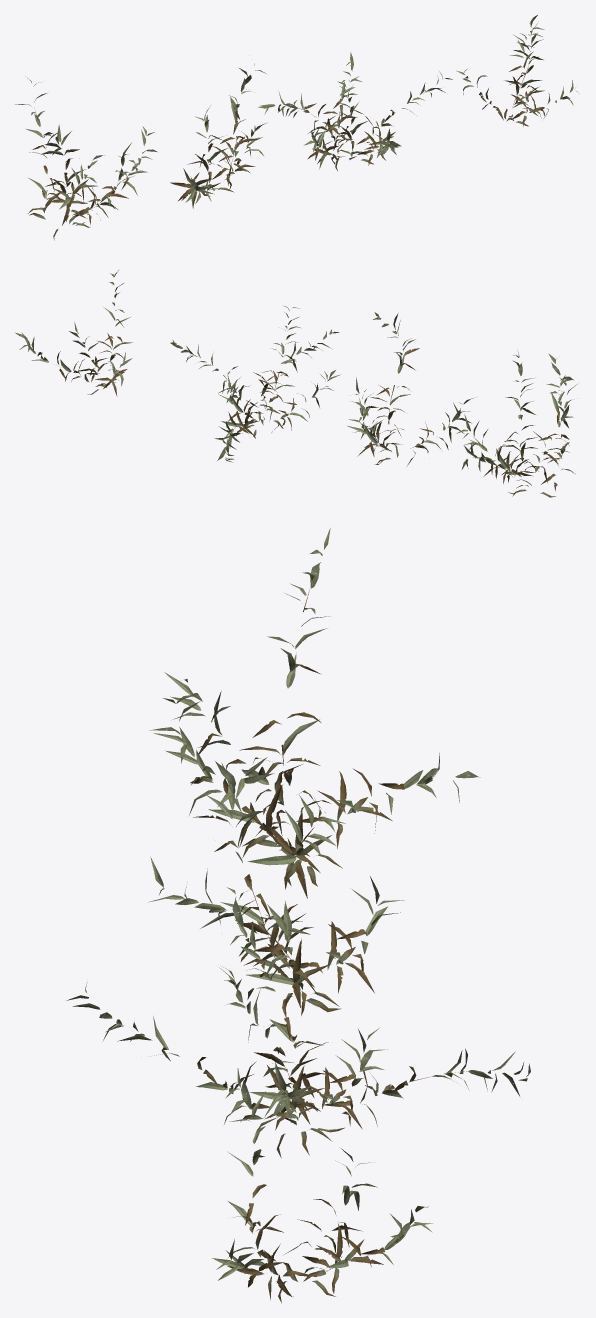
File: shrub_02.glb
3 renders of one model, top to bottom at view 1: azimuth 30°, elevation 25°; view 2: azimuth 150°, elevation 25°; view 3: azimuth 270°, elevation 25°, orthographic. The views are drawn at different scales.
Parts seen in each view (by area): view 1: shrub_02_c, shrub_02_a, shrub_02_b, shrub_02_d; view 2: shrub_02_c, shrub_02_a, shrub_02_b, shrub_02_d; view 3: shrub_02_a, shrub_02_c, shrub_02_b, shrub_02_d.
Part boxes in pixels (left/top/right/bottom): shrub_02_c: left=257, top=52, right=452, bottom=170; shrub_02_a: left=15, top=76, right=157, bottom=240; shrub_02_b: left=170, top=63, right=267, bottom=208; shrub_02_d: left=456, top=15, right=579, bottom=126; shrub_02_c: left=170, top=305, right=340, bottom=462; shrub_02_a: left=456, top=350, right=577, bottom=497; shrub_02_b: left=347, top=312, right=474, bottom=465; shrub_02_d: left=15, top=270, right=132, bottom=396; shrub_02_a: left=149, top=528, right=480, bottom=898; shrub_02_c: left=67, top=887, right=530, bottom=1158; shrub_02_b: left=148, top=757, right=404, bottom=1017; shrub_02_d: left=212, top=1068, right=432, bottom=1303.
Bounding box in the file's own units: 6.04 × 1.7 × 2.28.
1 material, 1 textured.
